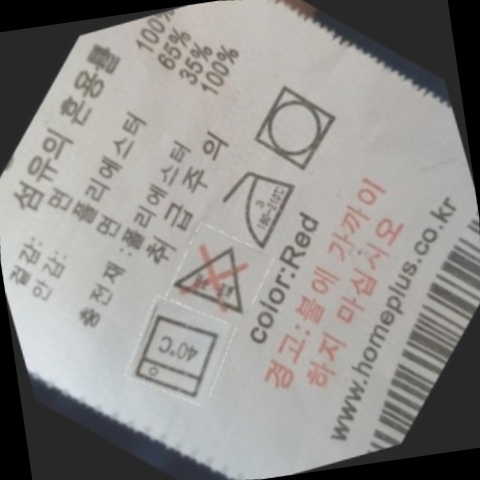40C: (118, 292, 245, 417)
iron_high: (212, 145, 318, 258)
non_chlorine_bleach: (161, 221, 274, 334)
tumble_dry_normal: (231, 58, 365, 196)
